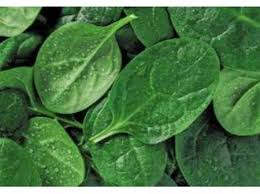spinach: (112, 43, 220, 142), (34, 17, 120, 106), (25, 112, 89, 182)
